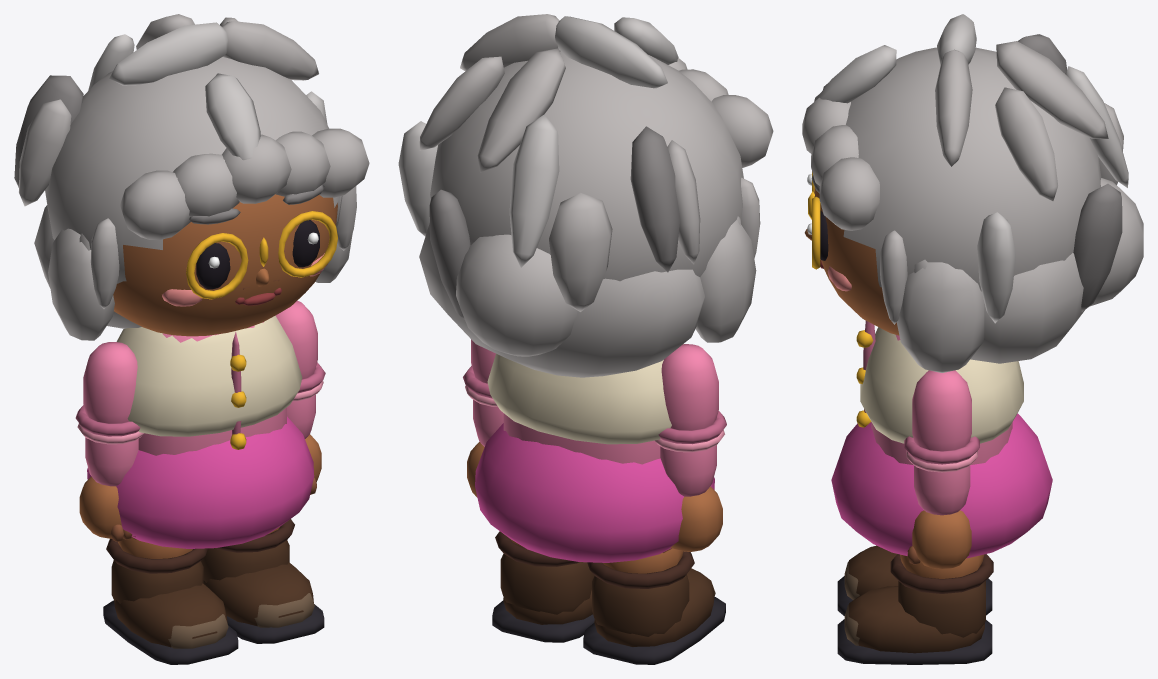
Rendered from rosa.glb.
3 views of the same model, side by side, from view 1: azimuth 30°, elevation 25°; view 2: azimuth 150°, elevation 25°; view 3: azimuth 270°, elevation 25° (orthographic). The views are drawn at different scales.
Parts seen in each view (by area): view 1: hair, torso, head, shin_r, shin_l, arm_r, arm_l, glasses, hand_r, eye_r, eye_l, leg_r; view 2: hair, torso, shin_r, shin_l, arm_r, hand_r, arm_l, leg_r; view 3: hair, torso, shin_l, arm_l, head, hand_l, shin_r, leg_l, glasses.
Part boxes in pixels (x1,y1,x2,y2): hair: (14, 14, 369, 340); torso: (87, 315, 314, 548); head: (113, 184, 337, 336); shin_r: (103, 538, 238, 664); shin_l: (201, 519, 324, 643); arm_r: (75, 342, 143, 486); arm_l: (275, 300, 325, 438); glasses: (186, 211, 337, 299); hand_r: (79, 476, 135, 541); eye_r: (196, 243, 230, 289); eye_l: (292, 220, 319, 267); leg_r: (118, 537, 192, 558); hair: (398, 14, 773, 377); torso: (475, 344, 714, 562); shin_r: (583, 551, 725, 664); shin_l: (492, 531, 594, 642); arm_r: (655, 344, 726, 496); hand_r: (670, 486, 722, 551); arm_l: (463, 339, 503, 446); leg_r: (603, 548, 683, 573); hair: (802, 14, 1143, 372); torso: (831, 321, 1052, 558); shin_l: (837, 554, 993, 664); arm_l: (904, 370, 979, 515); head: (804, 175, 899, 335); hand_l: (907, 510, 971, 568); shin_r: (837, 545, 992, 615); leg_l: (900, 554, 984, 578); glasses: (808, 171, 820, 269).
Bounding box in the file's own units: 0.5165 × 0.9768 × 0.5012.
Materials: 1 (1 with a texture image).
